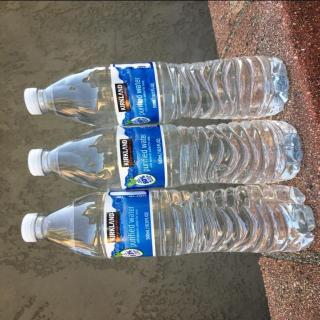Anorganik: (14, 184, 310, 261), (17, 52, 294, 116), (23, 120, 306, 180)
